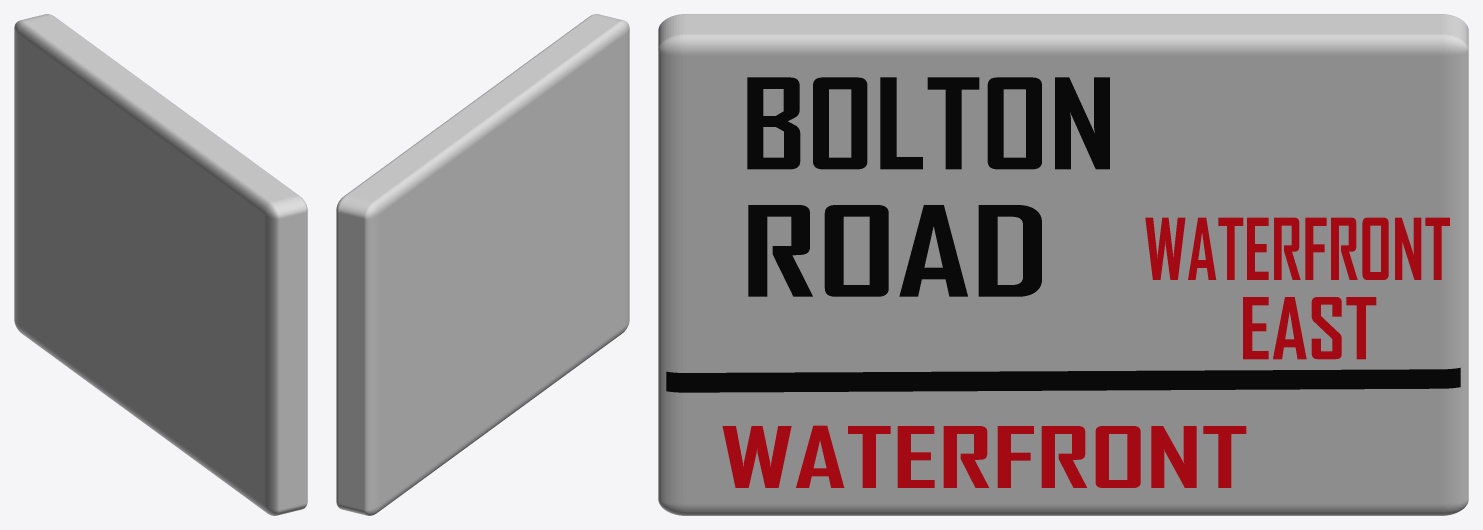
File: uk_styled_street_sign_37.fbx
The picture shows the model from 3 angles, left to right: view 1: azimuth 30°, elevation 25°; view 2: azimuth 150°, elevation 25°; view 3: azimuth 270°, elevation 25°; orthographic projection. The views are drawn at different scales.
Parts seen in each view (by area): view 1: Cube; view 2: Cube; view 3: Cube, Text, Text.002, Text.001, Text.003, Text.004.
Boxes of the visible parts, box(x1,y1,x2,y2) form: Cube: box(14, 14, 307, 515); Cube: box(336, 14, 629, 515); Cube: box(658, 14, 1468, 515); Text: box(747, 77, 1109, 169); Text.002: box(722, 425, 1246, 487); Text.001: box(748, 205, 1041, 296); Text.003: box(1145, 217, 1449, 279); Text.004: box(1243, 297, 1376, 359).
Size of the model in its own units: 1.63 by 11.91 by 18.18.
